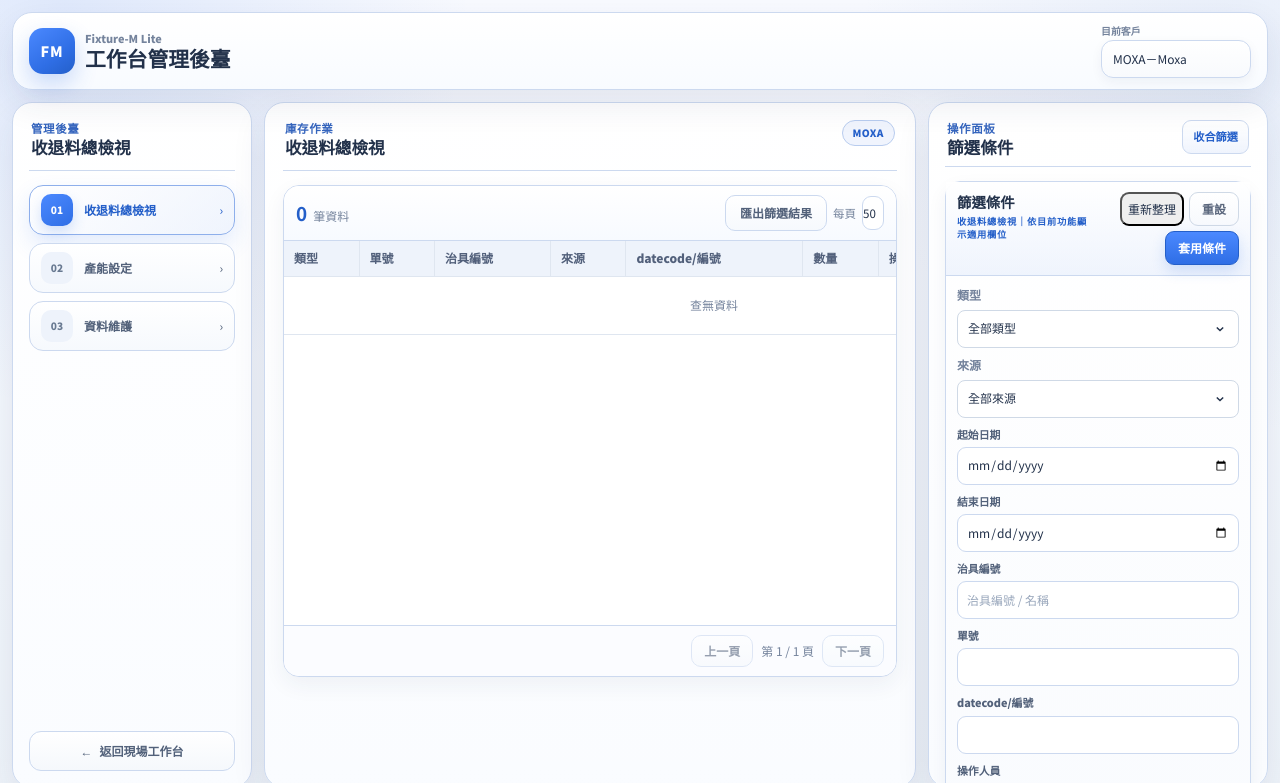
Test case: WorkbenchManagementSurface › collapses and restores the right-side filter controls
Click the button with class "workbench-filter-toggle" at (1216,137), box [1182,120,1249,154]
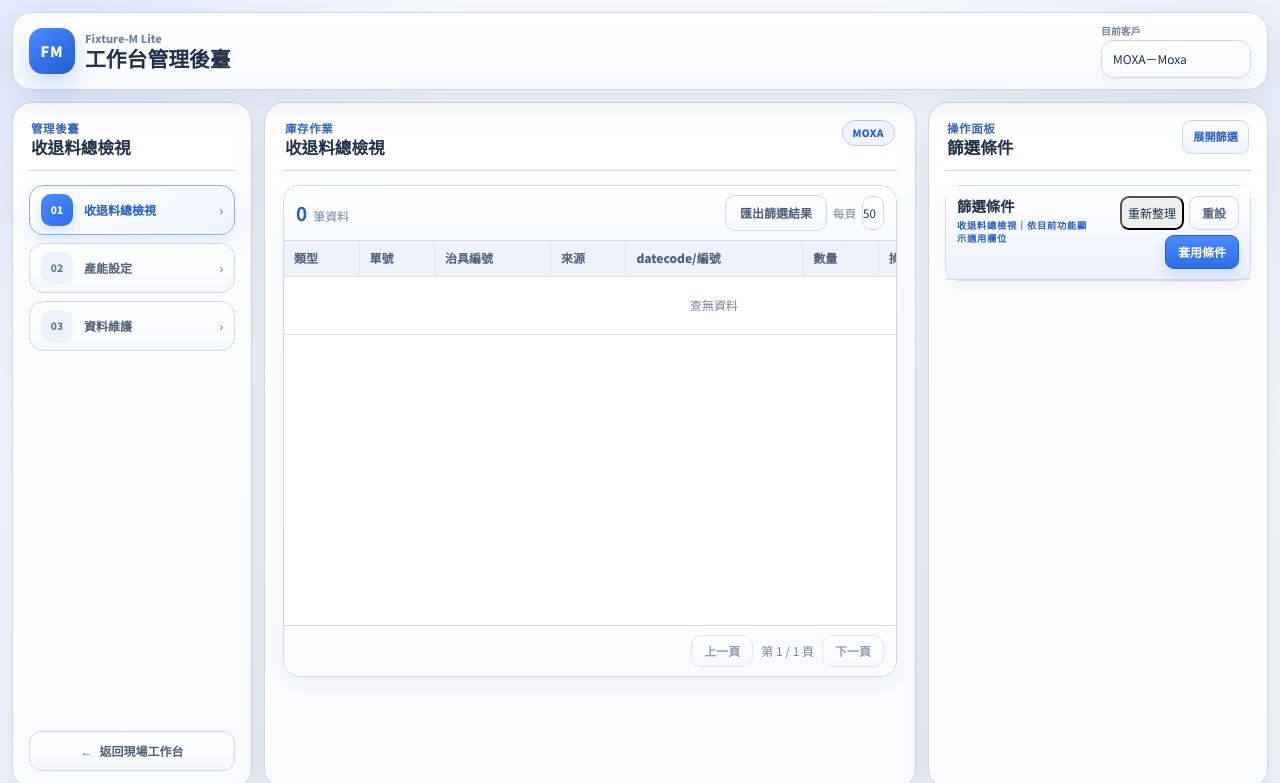
Now the button with class "workbench-filter-toggle" reads "展開篩選", box [1182,120,1249,154]
Now the button with class "workbench-filter-toggle" is collapsed, box [1182,120,1249,154]
